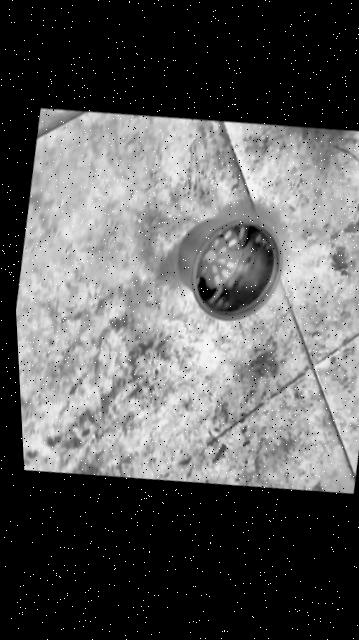pot: (164, 202, 291, 335)
